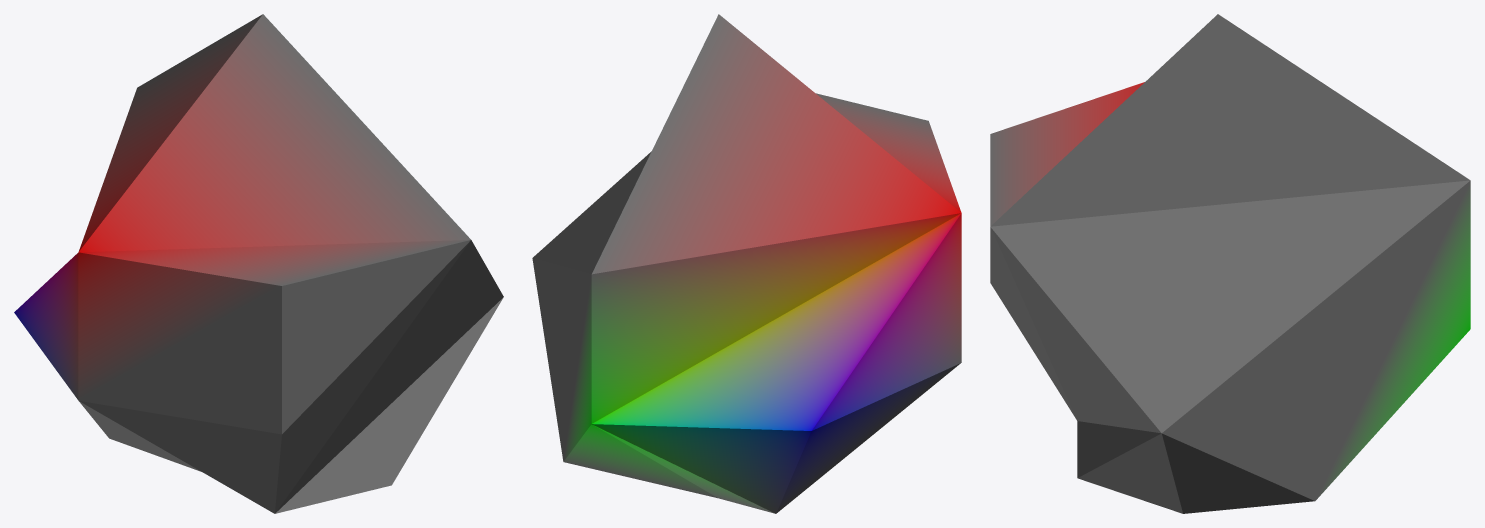
The model's file is gate_cleaning_conquest_87.obj.
3 views of the same model, side by side, from view 1: azimuth 30°, elevation 25°; view 2: azimuth 150°, elevation 25°; view 3: azimuth 270°, elevation 25° (orthographic).
Bounding box in the file's own units: 1.85 × 2 × 1.81.
